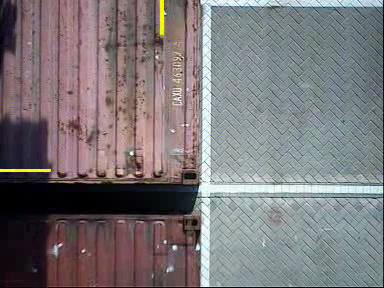groundmarker_2: (103, 75, 169, 119), (105, 211, 171, 255)
